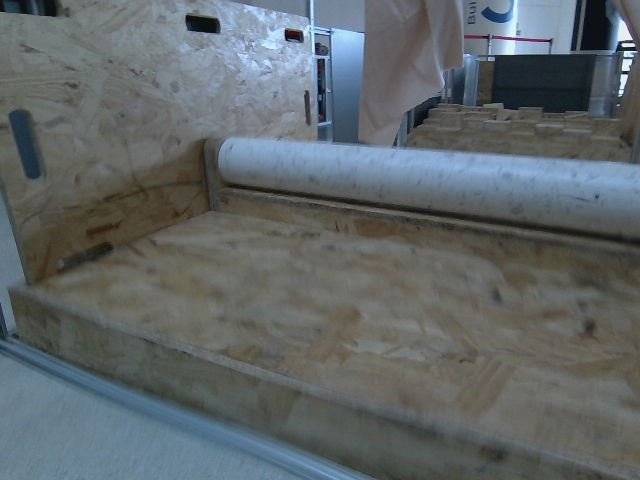curtain: (371, 0, 474, 158)
